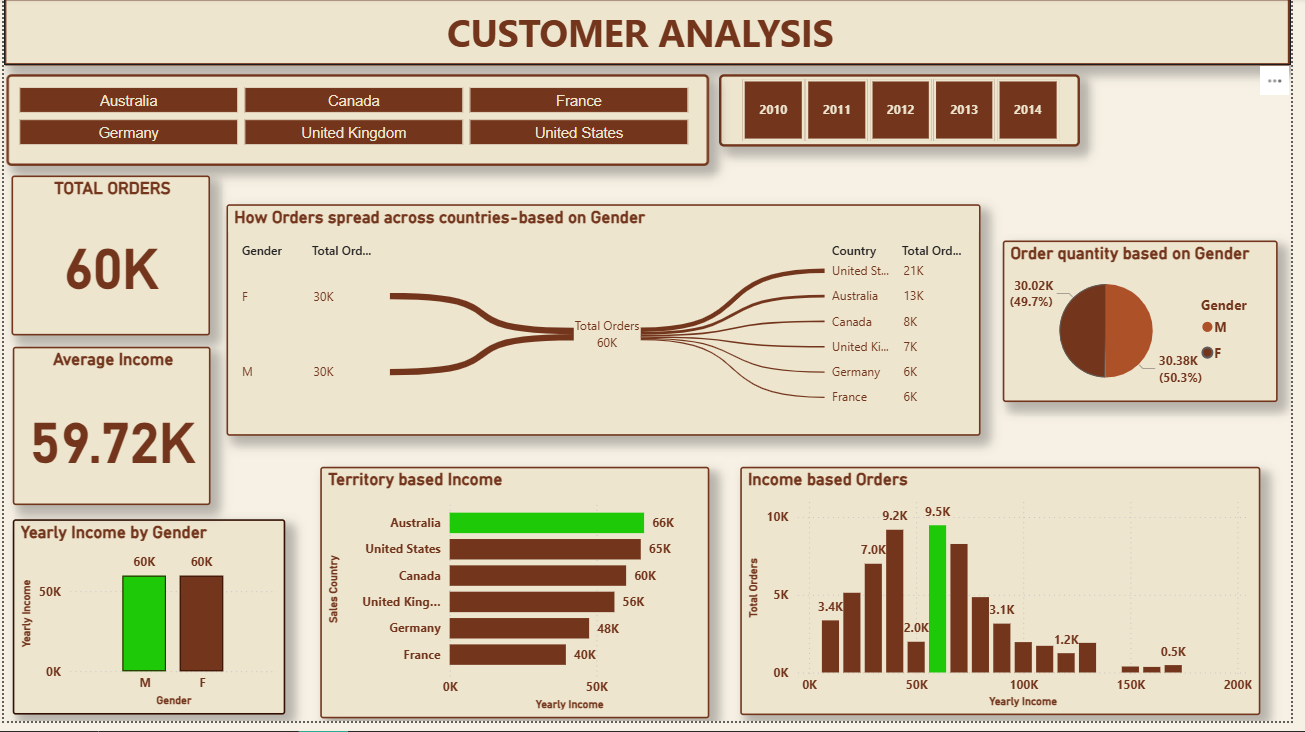

What the dashboard file says about the page in this screenshot:
{"tool":"powerbi","page":{"name":"CUSTOMER ANALYSIS","canvas":[1280,720],"ordinal":0},"visuals":[{"type":"pieChart","title":"Order quantity based on Gender","fields":{"Category":["vw_ftinternetsales.gender"],"Y":["CountNonNull(vw_ftinternetsales.orderquantity)"]},"box":[993.9,241.3,273.7,160.5],"z":0},{"type":"textbox","box":[0,0,1280.3,67.2],"z":1000},{"type":"slicer","title":"YEARS","fields":{"Values":["vw_ftinternetsales.calendaryear"]},"box":[711.5,75.9,359.5,72.1],"z":2000},{"type":"ChicletSlicer1448559807354","title":"COUNTRIES","fields":{"Category":["vw_ftinternetsales.salesterritorycountry"]},"box":[2.5,75.9,699.1,90.8],"z":3000},{"type":"clusteredColumnChart","title":"Yearly Income by Gender","fields":{"Category":["vw_ftinternetsales.gender"],"Y":["Avg(vw_ftinternetsales.yearlyincome)"]},"box":[8.7,518.7,271.2,194.1],"z":4000},{"type":"card","title":"TOTAL ORDERS","fields":{"Values":["DimProductCategory.total_orders"]},"box":[7.5,176.6,197.8,159.2],"z":5000},{"type":"clusteredColumnChart","title":"Income based Orders","fields":{"Category":["vw_ftinternetsales.yearlyincome"],"Y":["DimProductCategory.total_orders"]},"box":[732.7,466.5,517.5,247.5],"z":6000},{"type":"card","title":"Average Income","fields":{"Values":["measures (3).Income"]},"box":[8.7,347.1,196.5,158],"z":7000},{"type":"clusteredBarChart","title":"Territory based Income","fields":{"Category":["vw_ftinternetsales.salesterritorycountry"],"Y":["measures (3).Income"]},"box":[314.7,466.5,386.9,250],"z":8000},{"type":"BowtieChart1465021618681","title":"How Orders spread across countries-based on Gender","fields":{"Value":["DimProductCategory.total_orders"],"Destination":["vw_ftinternetsales.gender"],"Source":["vw_ftinternetsales.salesterritorycountry"]},"box":[221.4,205.3,750.1,230.1],"z":8001}]}

Visuals, with their boxes in screenshot pixels (x1, y1, x2, y2), scaled from the page's 1280x720 canvas onto the 1305x732 screenshot:
"Order quantity based on Gender" pieChart: (left=1013, top=245, right=1292, bottom=408)
textbox: (left=0, top=0, right=1304, bottom=68)
"YEARS" slicer: (left=725, top=77, right=1092, bottom=150)
"COUNTRIES" ChicletSlicer1448559807354: (left=3, top=77, right=715, bottom=169)
"Yearly Income by Gender" clusteredColumnChart: (left=9, top=527, right=285, bottom=725)
"TOTAL ORDERS" card: (left=8, top=180, right=209, bottom=341)
"Income based Orders" clusteredColumnChart: (left=747, top=474, right=1275, bottom=726)
"Average Income" card: (left=9, top=353, right=209, bottom=514)
"Territory based Income" clusteredBarChart: (left=321, top=474, right=715, bottom=728)
"How Orders spread across countries-based on Gender" BowtieChart1465021618681: (left=226, top=209, right=990, bottom=443)
